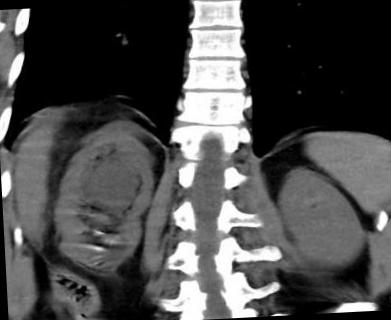Tas_Var: (93, 244, 106, 252), (94, 228, 104, 235)
